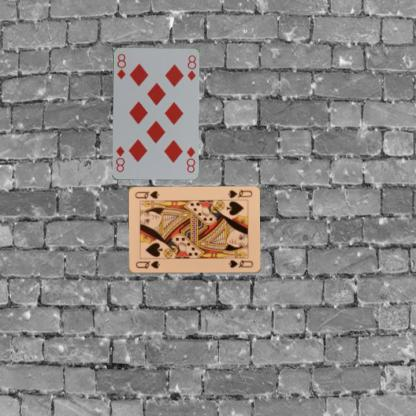8d: (184, 144, 196, 174), (115, 51, 127, 80)
Qs: (133, 258, 161, 270), (225, 188, 253, 200)
